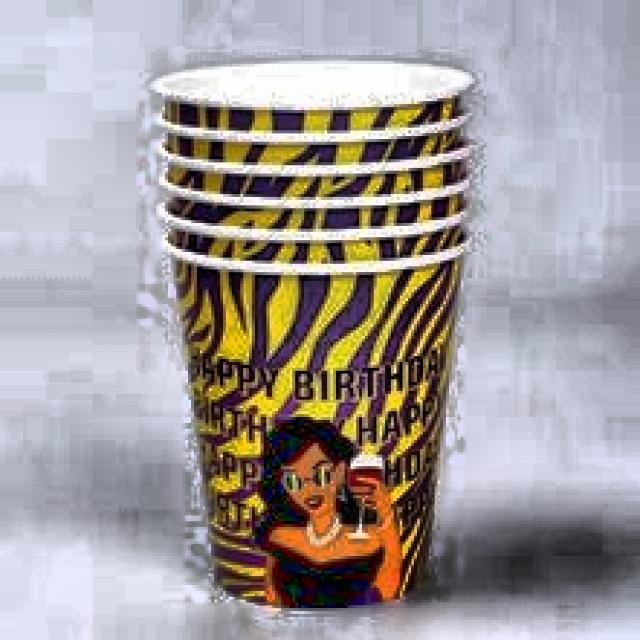Cup: (160, 44, 478, 619)
